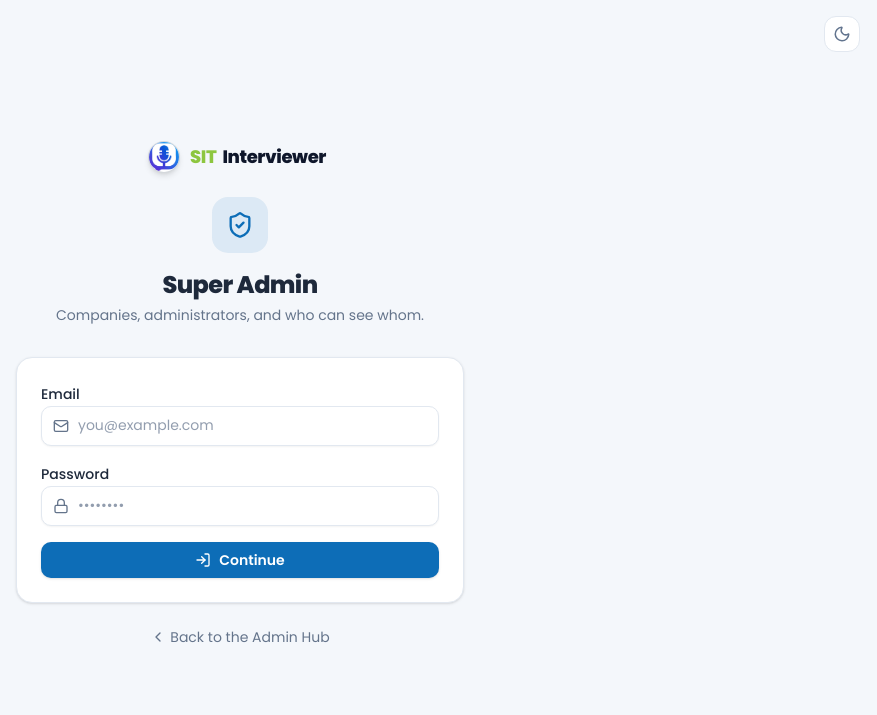
Test: step two: the code › a wrong code leaves you on step two rather than back at the password
Type "admin@interviewer.com" into the field labelled "Email" at (240, 426), box [41,406,439,446]
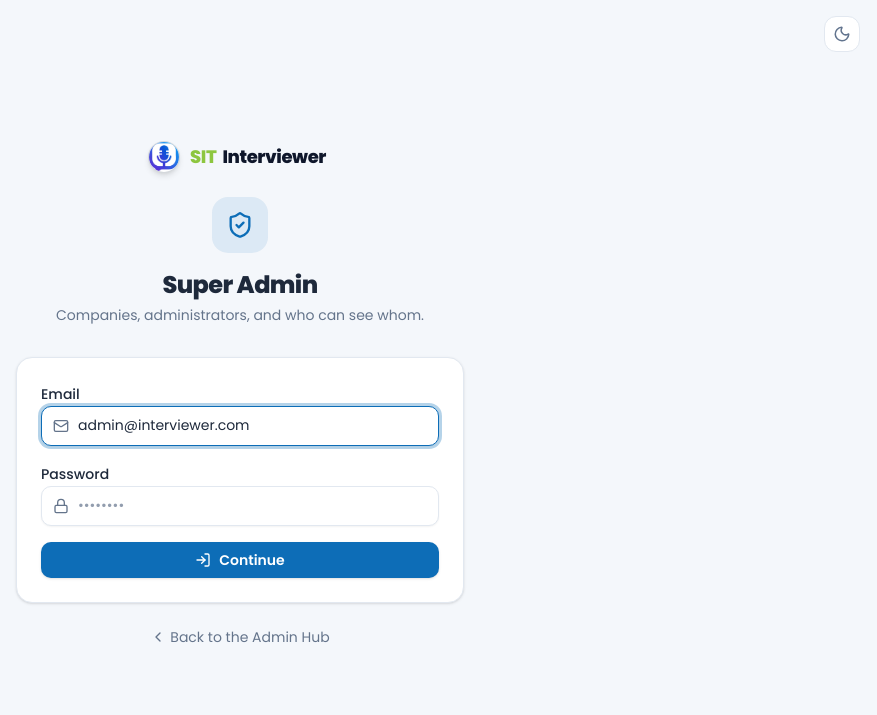
Type "correct-horse-battery" into the password field labelled "Password" at (240, 506), box [41,486,439,526]
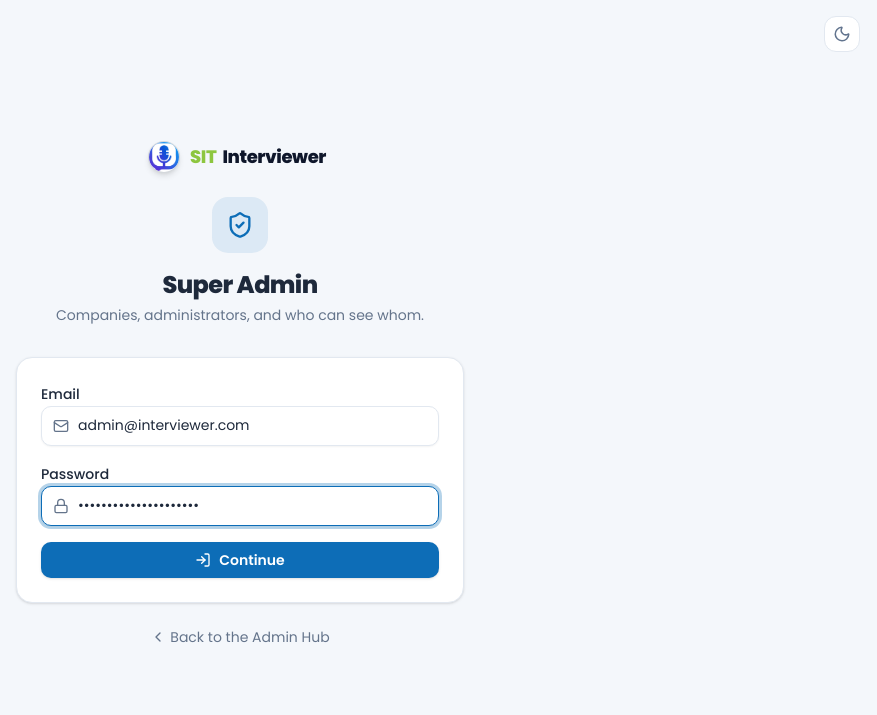
Click the button "Continue" at (240, 560), box [41,542,439,578]
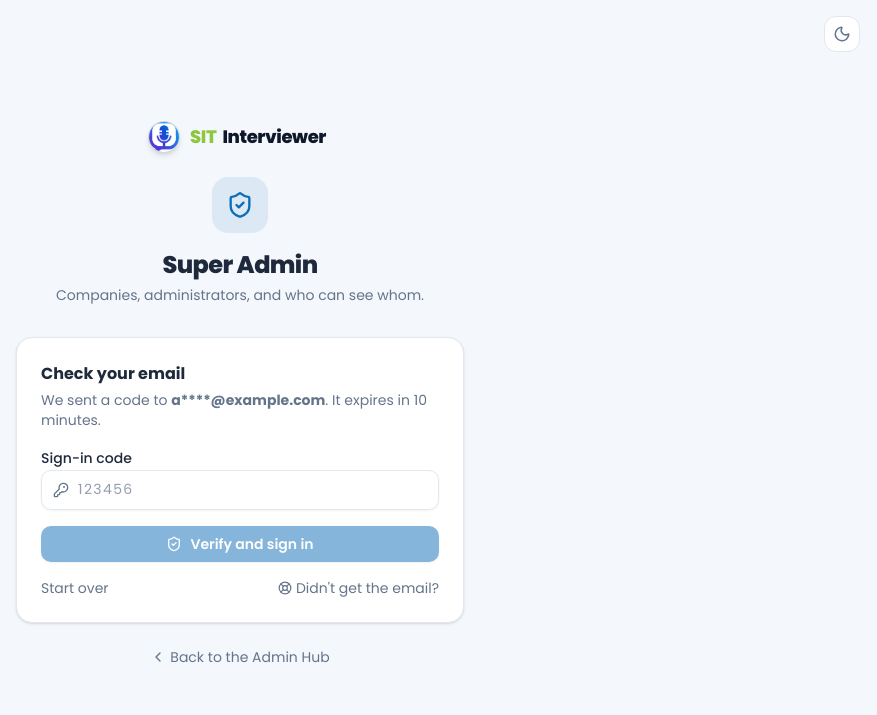
Type "000000" into the field labelled "Sign-in code" at (240, 490), box [41,470,439,510]
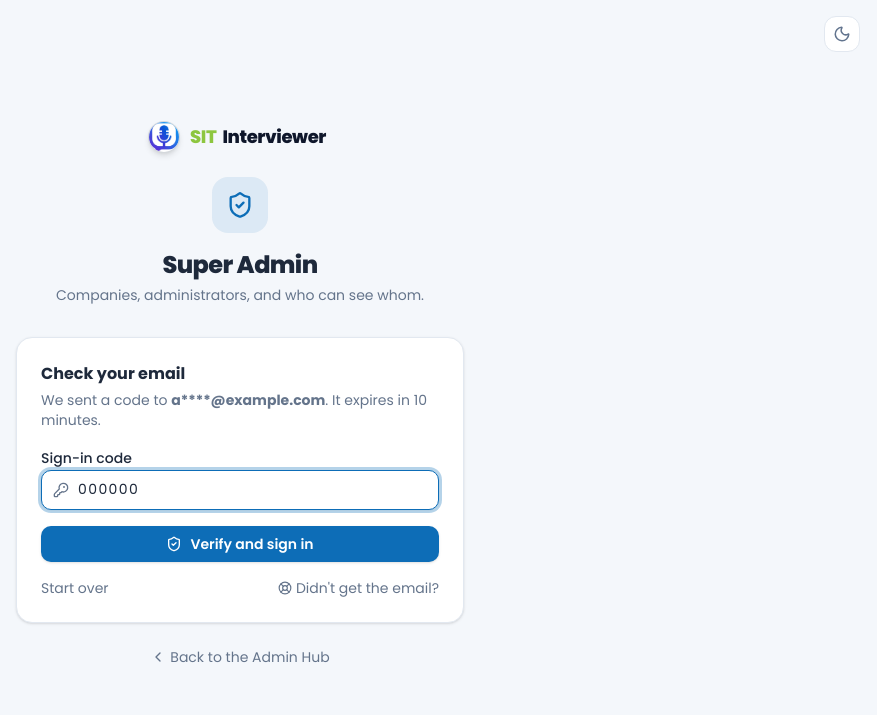
Click the button "Verify and sign in" at (240, 544), box [41,526,439,562]
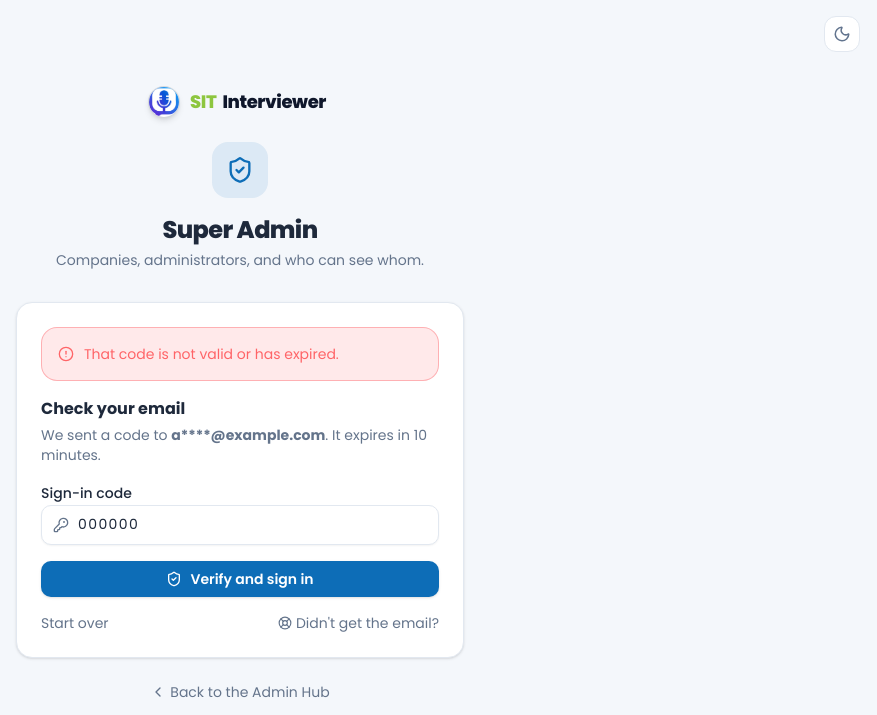
expect the text "That code is not valid or has expired." is shown: met, box [84,344,339,364]
